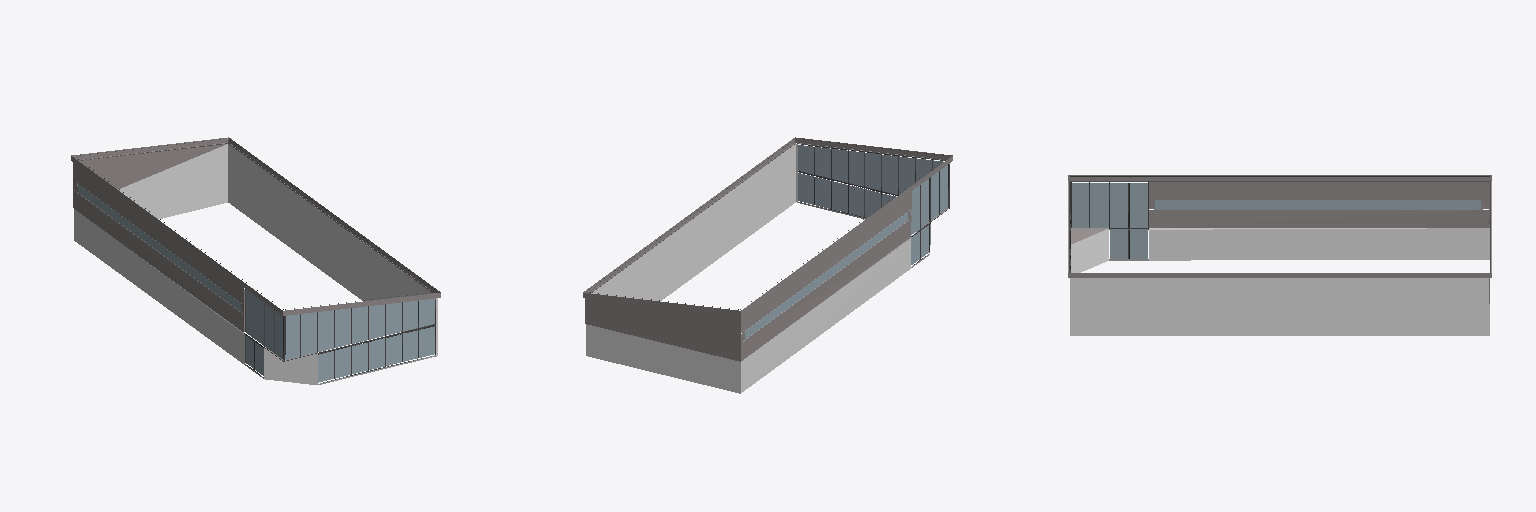
File: lidl.obj
3 views of the same model, side by side, from view 1: azimuth 30°, elevation 25°; view 2: azimuth 150°, elevation 25°; view 3: azimuth 270°, elevation 25° (orthographic).
Parts seen in each view (by area): view 1: Mesh2849_Component_1_1_Model_Mesh2849_Component_1_1_Model_C.003; view 2: Mesh2849_Component_1_1_Model_Mesh2849_Component_1_1_Model_C.003; view 3: Mesh2849_Component_1_1_Model_Mesh2849_Component_1_1_Model_C.003.
Part boxes in pixels (x1,y1,x2,y2): Mesh2849_Component_1_1_Model_Mesh2849_Component_1_1_Model_C.003: (71, 137, 440, 384); Mesh2849_Component_1_1_Model_Mesh2849_Component_1_1_Model_C.003: (583, 137, 952, 393); Mesh2849_Component_1_1_Model_Mesh2849_Component_1_1_Model_C.003: (1068, 175, 1491, 335).
Bounding box in the file's own units: 18.83 × 9.59 × 43.71.